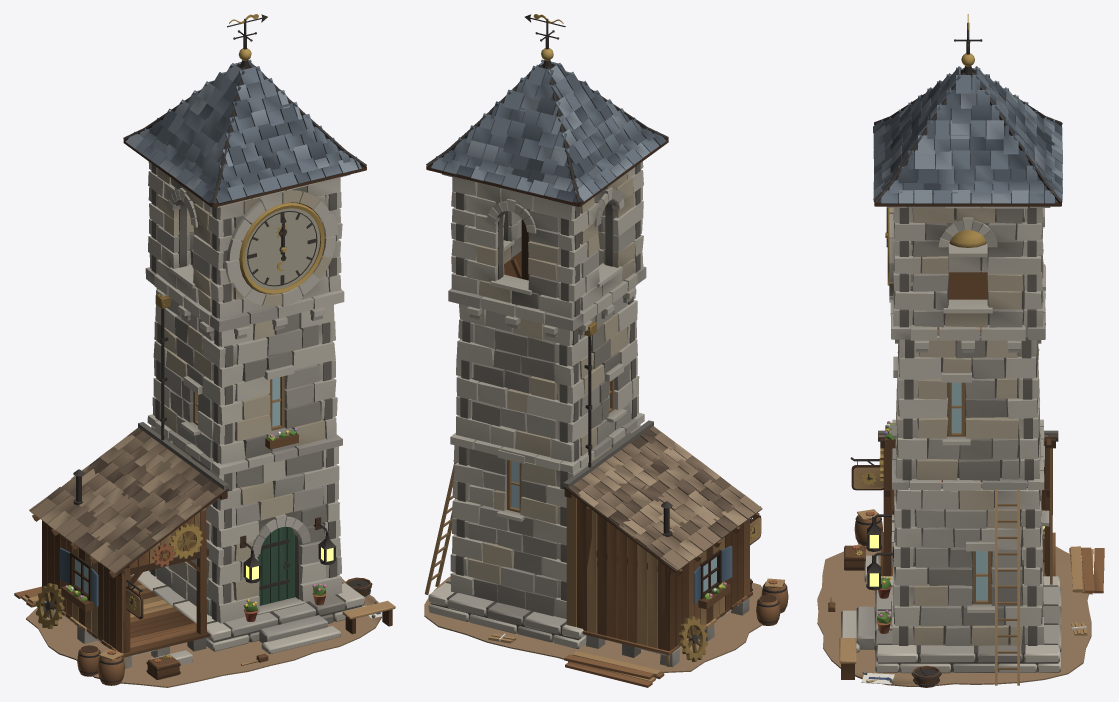
Rendered from clocktower.glb.
3 renders of one model, left to right at view 1: azimuth 30°, elevation 25°; view 2: azimuth 150°, elevation 25°; view 3: azimuth 270°, elevation 25°, orthographic. The views are drawn at different scales.
Parts seen in each view (by area): view 1: stage_04_mesh, stage_12_mesh, stage_08_mesh, stage_07_mesh, stage_03_mesh, stage_01_mesh, stage_11_mesh, stage_02_mesh, stage_09_mesh, stage_14_mesh, stage_05_mesh, stage_13_mesh (+2 smaller); view 2: stage_12_mesh, stage_07_mesh, stage_04_mesh, stage_08_mesh, stage_03_mesh, stage_01_mesh, stage_11_mesh, stage_02_mesh, stage_06_mesh, stage_13_mesh, stage_14_mesh, stage_10_mesh; view 3: stage_03_mesh, stage_08_mesh, stage_07_mesh, stage_04_mesh, stage_01_mesh, stage_02_mesh, stage_11_mesh, stage_14_mesh, stage_06_mesh, stage_12_mesh, stage_13_mesh, bell.
Boxes of the visible parts, x1,y1,x2,y2 form: stage_04_mesh: [147, 288, 342, 475]; stage_12_mesh: [29, 422, 230, 653]; stage_08_mesh: [123, 38, 366, 207]; stage_07_mesh: [145, 161, 350, 339]; stage_03_mesh: [149, 426, 372, 623]; stage_01_mesh: [26, 578, 382, 687]; stage_11_mesh: [14, 491, 227, 668]; stage_02_mesh: [130, 570, 364, 653]; stage_09_mesh: [239, 202, 324, 294]; stage_14_mesh: [77, 517, 395, 685]; stage_05_mesh: [252, 510, 310, 614]; stage_13_mesh: [35, 294, 180, 679]; stage_12_mesh: [562, 420, 762, 650]; stage_07_mesh: [442, 161, 646, 338]; stage_04_mesh: [450, 286, 644, 473]; stage_08_mesh: [426, 38, 668, 206]; stage_03_mesh: [424, 424, 640, 618]; stage_01_mesh: [424, 576, 762, 672]; stage_11_mesh: [564, 489, 759, 687]; stage_02_mesh: [428, 579, 586, 648]; stage_06_mesh: [496, 363, 626, 521]; stage_13_mesh: [584, 321, 752, 661]; stage_14_mesh: [750, 506, 788, 625]; stage_10_mesh: [511, 30, 559, 280]; stage_03_mesh: [892, 480, 1044, 687]; stage_08_mesh: [873, 43, 1062, 206]; stage_07_mesh: [886, 206, 1050, 352]; stage_04_mesh: [892, 326, 1044, 490]; stage_01_mesh: [817, 544, 1091, 686]; stage_02_mesh: [841, 576, 1061, 673]; stage_11_mesh: [864, 438, 1104, 594]; stage_14_mesh: [839, 457, 893, 679]; stage_06_mesh: [884, 356, 1049, 612]; stage_12_mesh: [878, 430, 1058, 584]; stage_13_mesh: [844, 510, 1044, 571]; bell: [949, 229, 986, 247].
Size of the model in its own units: 7.99 by 14.72 by 6.22.
